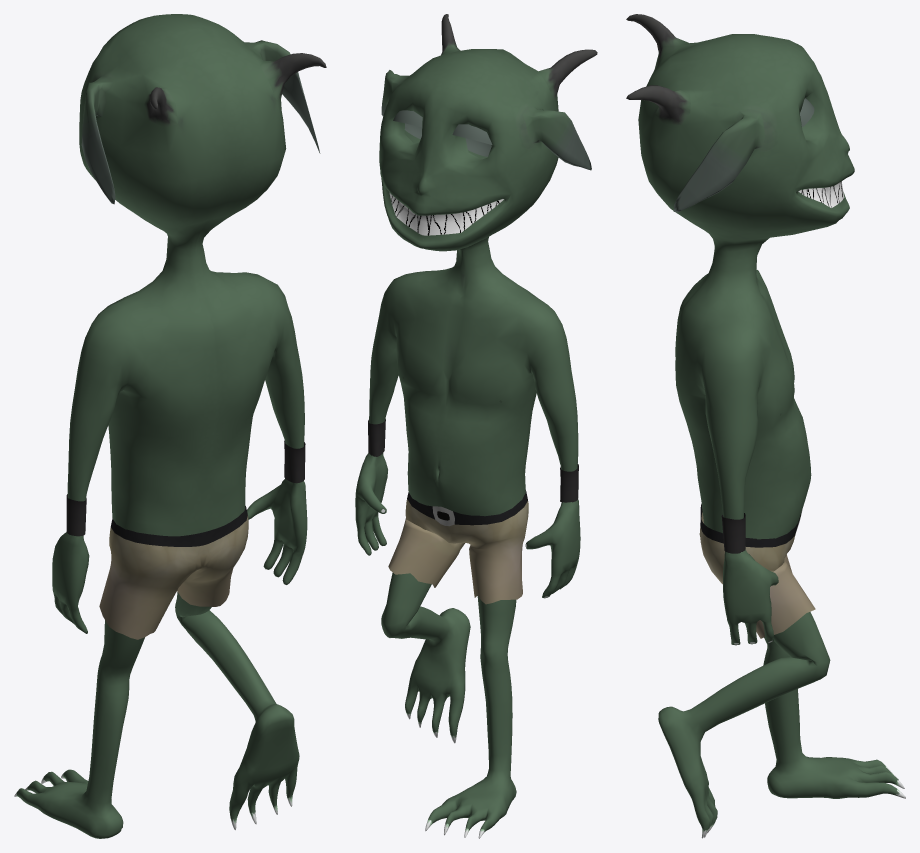
The model's file is lwjglcharactergoblin10_000019.obj.
The picture shows the model from 3 angles, left to right: view 1: azimuth 30°, elevation 25°; view 2: azimuth 150°, elevation 25°; view 3: azimuth 270°, elevation 25°; orthographic projection. The views are drawn at different scales.
Visible parts, largest first — view 1: Cube.002; view 2: Cube.002; view 3: Cube.002.
Part boxes in pixels (bbox=[...]): Cube.002: bbox=[14, 14, 326, 838]; Cube.002: bbox=[355, 14, 597, 838]; Cube.002: bbox=[626, 14, 905, 838].
Bounding box in the file's own units: 1.18 × 3.78 × 1.24.
